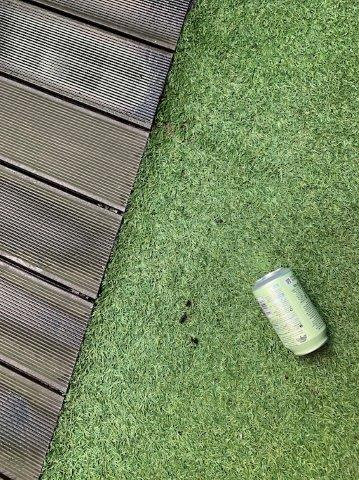kaleng: (252, 267, 329, 357)
